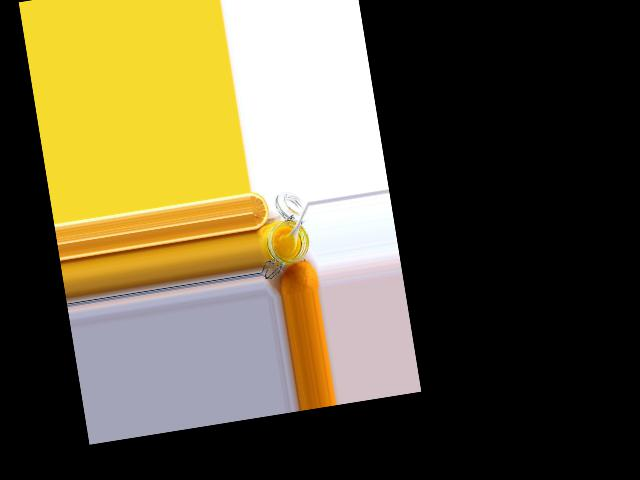lemon: (277, 257, 318, 296)
